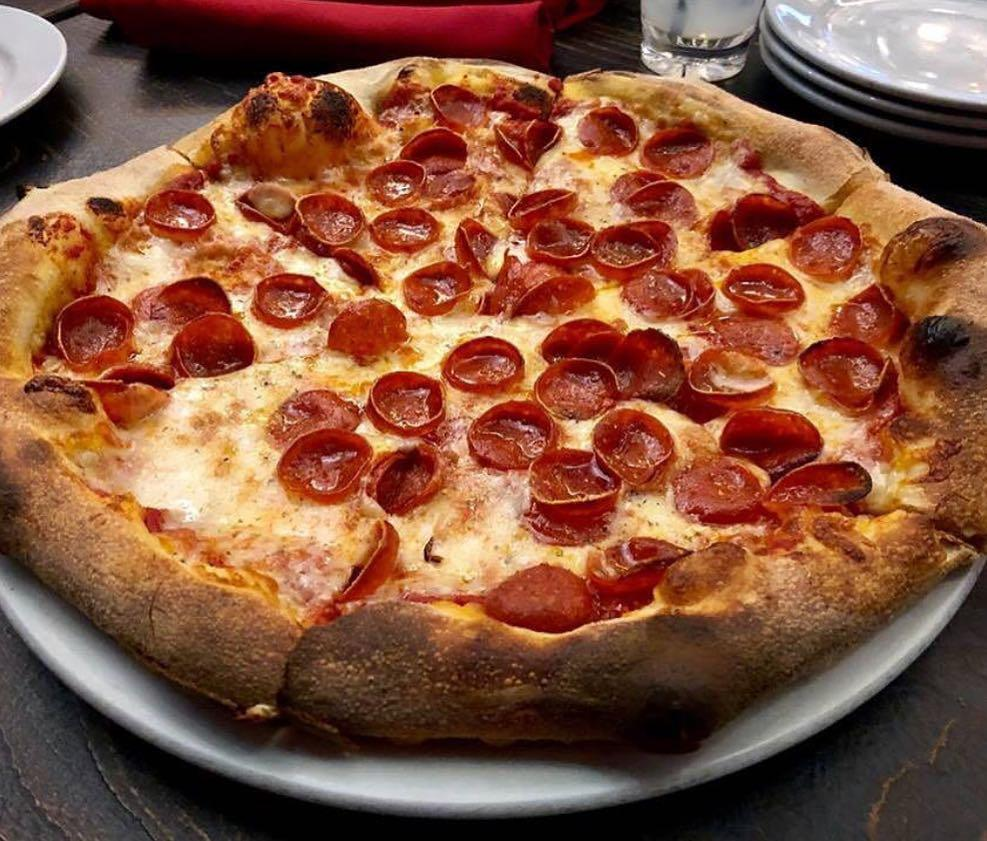Pepperoni: (464, 398, 569, 475), (274, 426, 381, 500), (490, 560, 596, 630), (242, 186, 367, 245), (527, 449, 620, 526), (372, 133, 474, 202), (674, 458, 770, 526), (58, 282, 135, 366), (722, 408, 829, 468), (800, 339, 887, 412), (358, 370, 450, 435), (618, 322, 689, 404), (97, 360, 176, 432), (364, 444, 454, 506), (610, 531, 687, 602), (534, 354, 618, 419), (336, 522, 404, 601), (170, 313, 247, 382), (602, 404, 666, 486), (689, 348, 780, 404), (708, 186, 796, 243), (788, 217, 866, 278), (493, 267, 594, 313), (326, 297, 404, 356), (626, 264, 714, 316), (772, 462, 866, 508), (618, 171, 706, 220), (450, 218, 516, 280), (836, 282, 905, 340), (698, 313, 794, 354), (602, 221, 671, 278), (720, 262, 797, 313), (448, 339, 522, 392), (152, 184, 223, 238), (495, 112, 560, 170), (148, 278, 237, 320), (637, 126, 719, 171), (256, 272, 324, 326), (370, 208, 444, 253), (402, 268, 479, 308), (280, 386, 356, 424), (295, 196, 362, 238), (426, 86, 498, 125), (506, 186, 578, 224), (578, 106, 639, 147), (530, 220, 588, 262), (548, 322, 615, 355), (338, 243, 385, 288)
Pizza: (2, 52, 987, 753)
